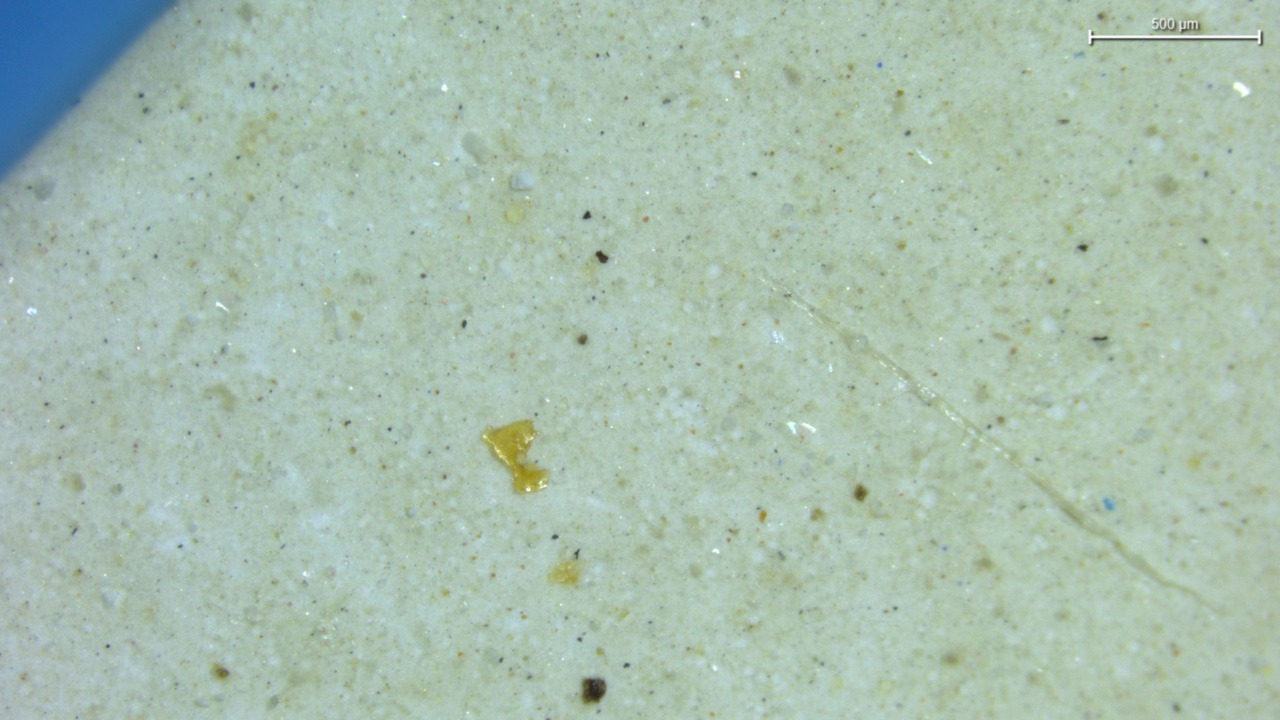microplastic_fragment: (481, 420, 548, 492), (510, 170, 536, 191)
